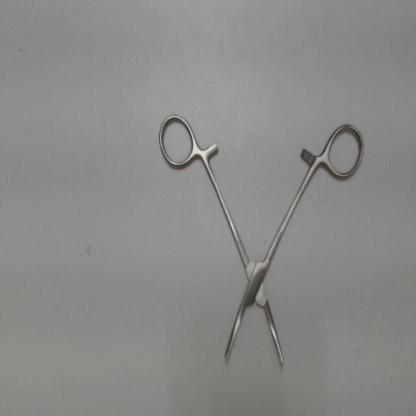Crile Artery Forceps: (148, 106, 373, 374)
